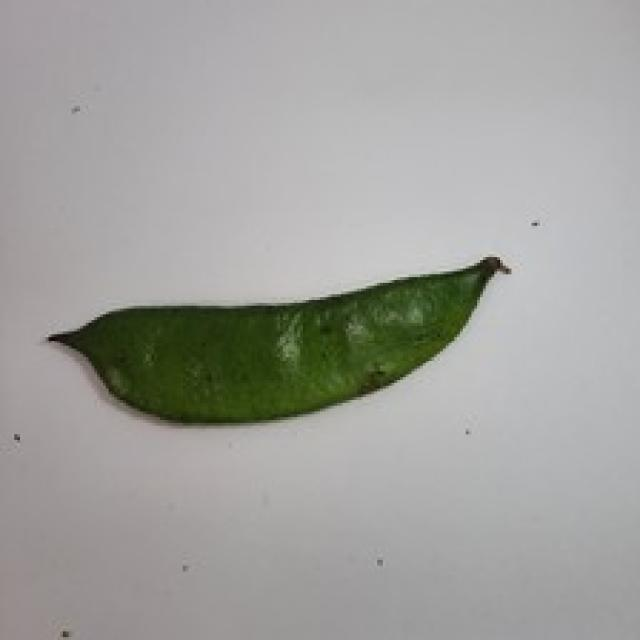Bean: (43, 251, 511, 426)
